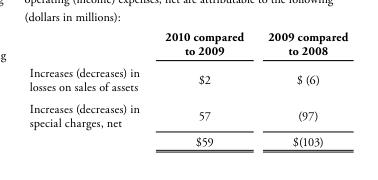table: (28, 28, 347, 149)
table column: (28, 28, 151, 149), (151, 28, 255, 149), (255, 28, 347, 149)
table column header: (28, 28, 347, 61)
table row: (28, 61, 347, 97), (28, 97, 347, 131), (28, 28, 347, 61), (28, 131, 347, 149)
